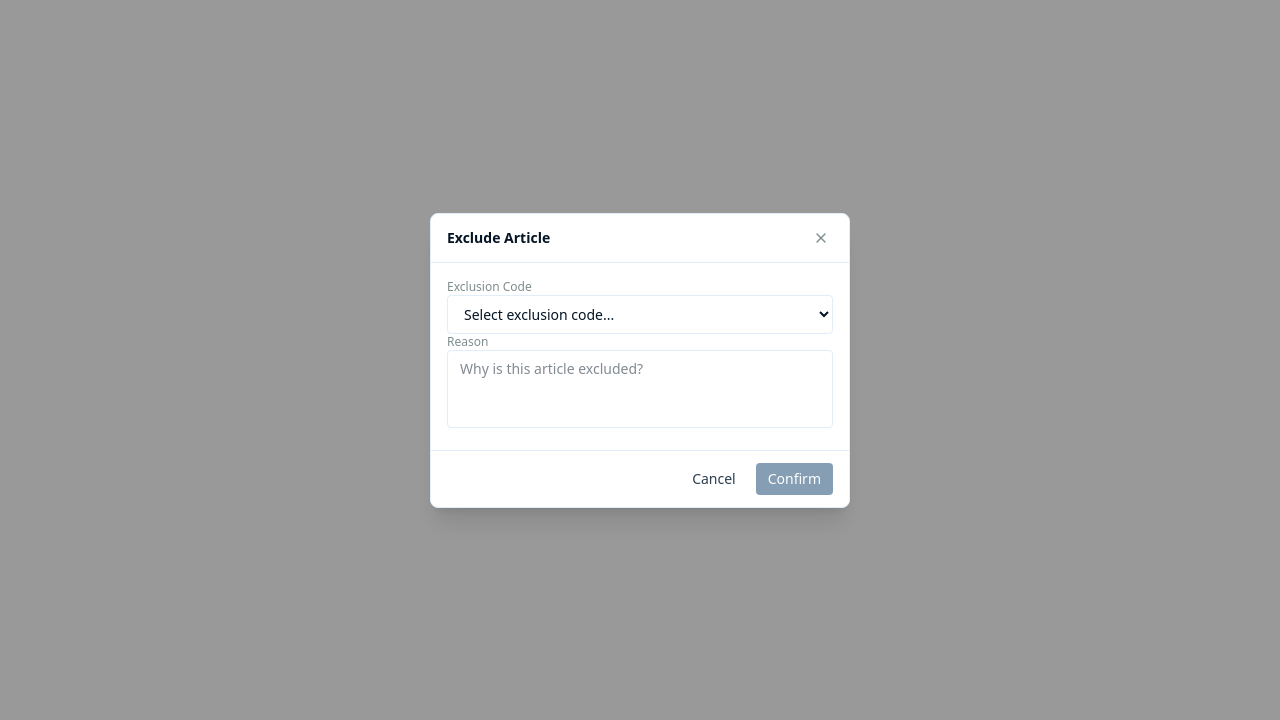
Test case: ScreeningDecisionDialog › enables confirm when both reason and exclusion code provided for EXCLUDED
Step 1. Select "E1 - Wrong population" in the dropdown with test id "exclusion-code-select" → x=640, y=314, box [447,294,833,334]
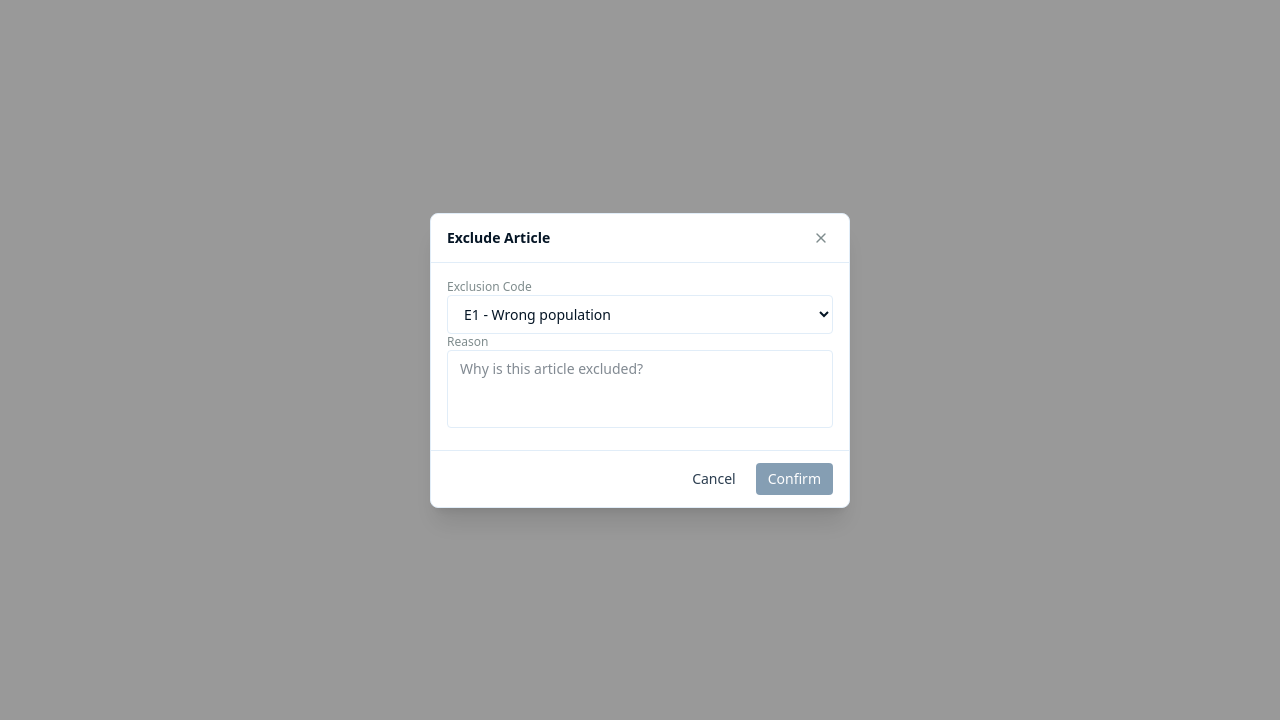
Step 2. Type "Wrong population" into the text box with test id "decision-reason-input" → x=640, y=388, box [447,350,833,428]
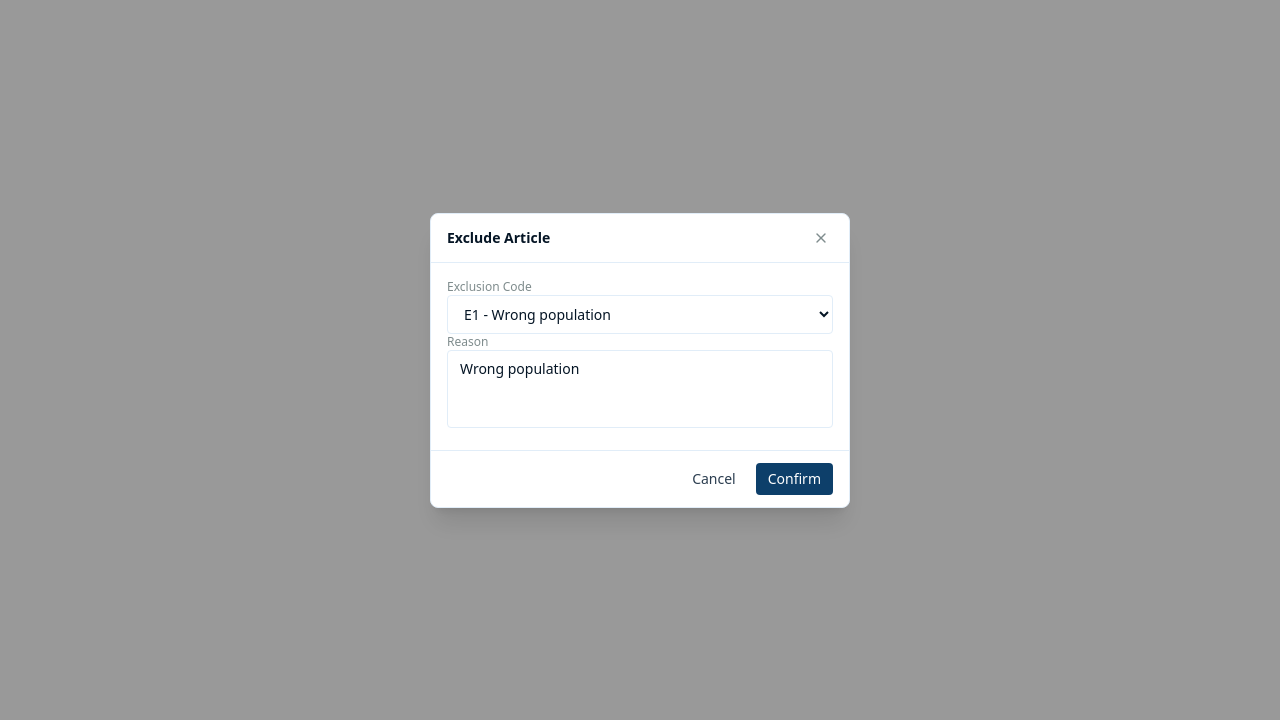
Expected: the button with test id "confirm-decision-btn" is enabled, [756,462,833,494]
